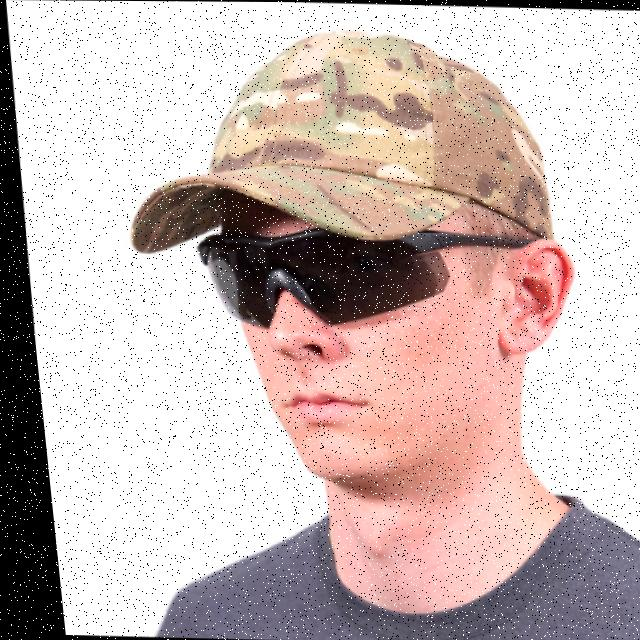illegal_helmet: (91, 12, 600, 494)
